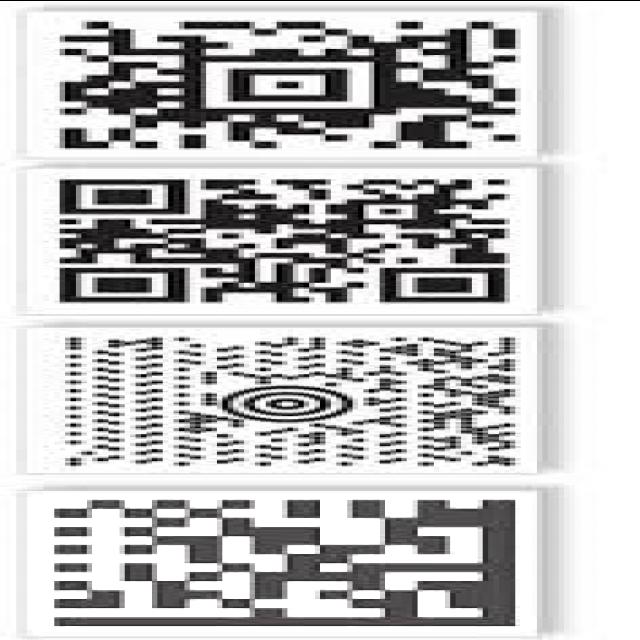DataMatrix: (32, 493, 532, 631)
